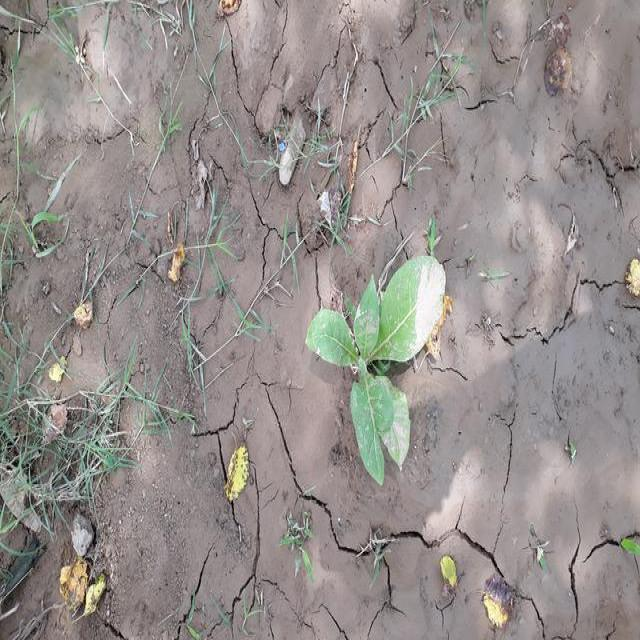crop: (298, 267, 448, 465)
